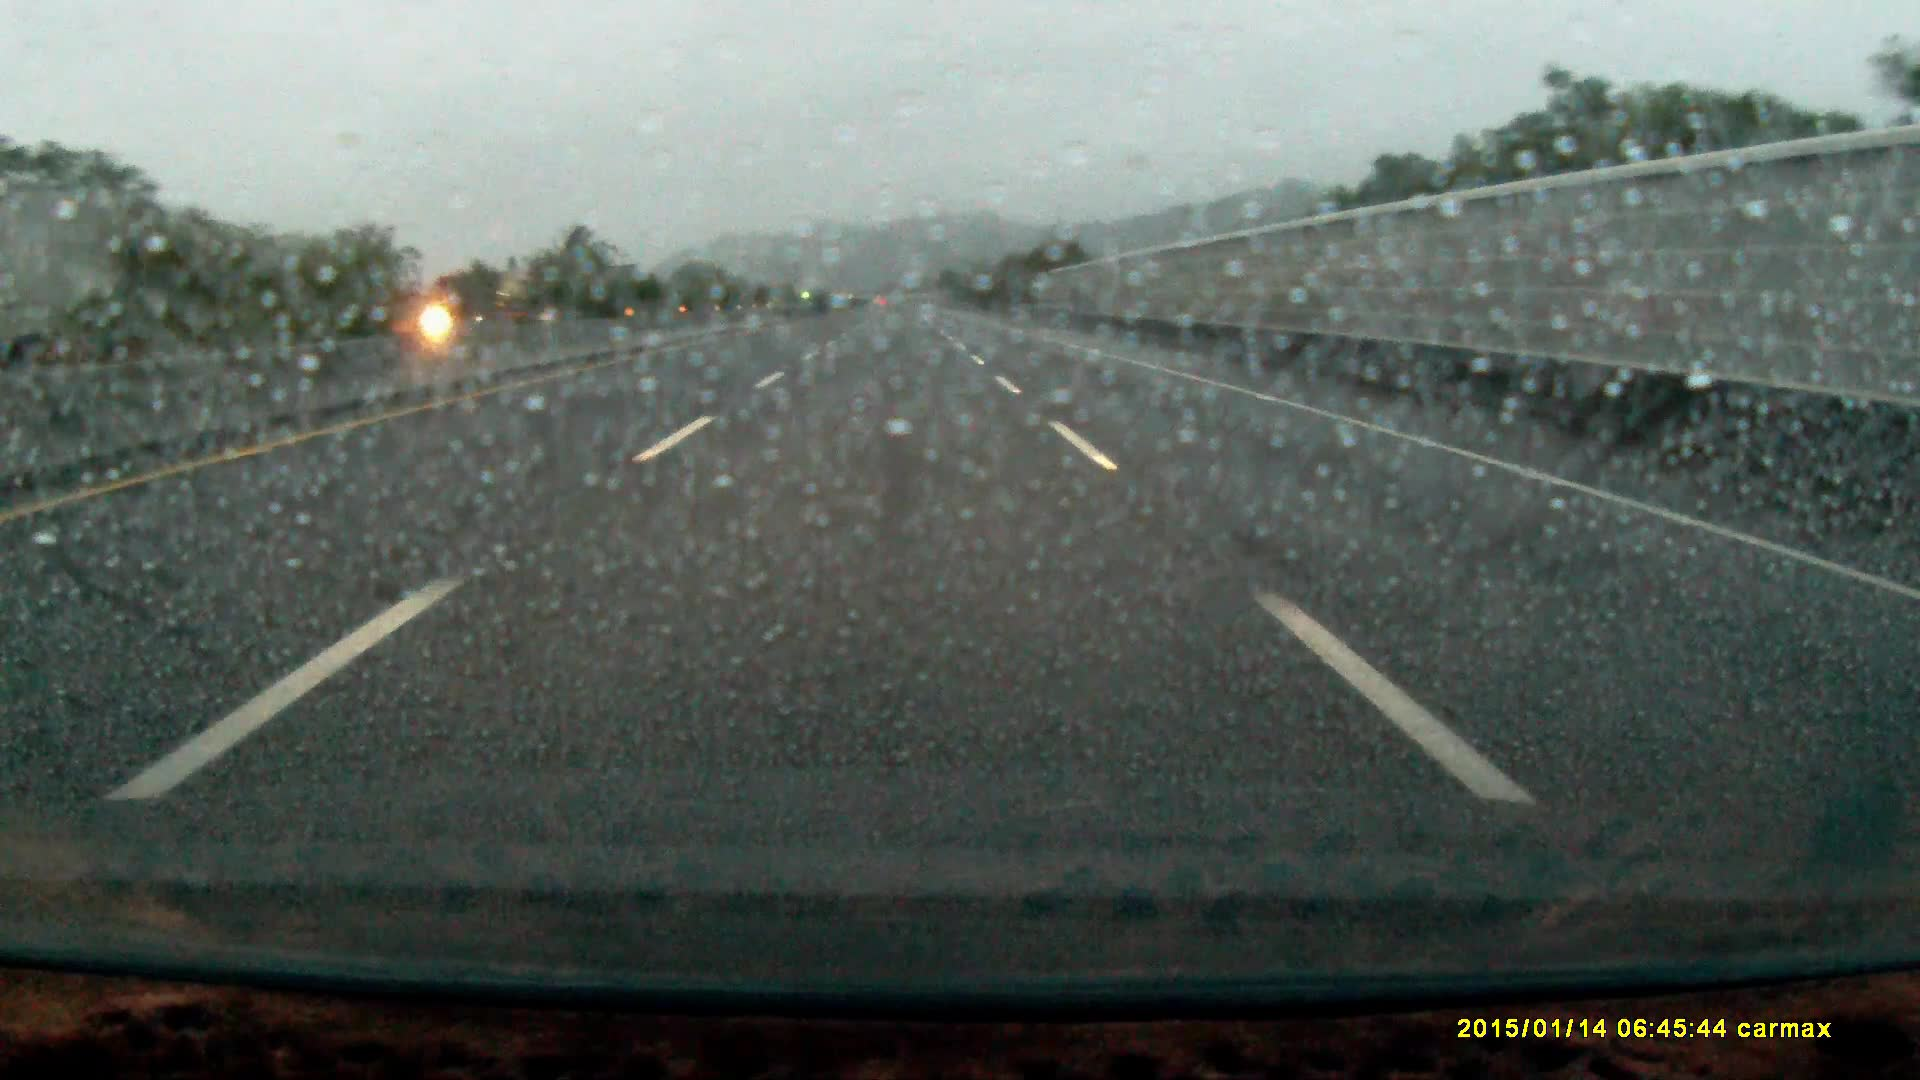vehicle: (1, 175, 121, 361), (430, 276, 527, 324)
